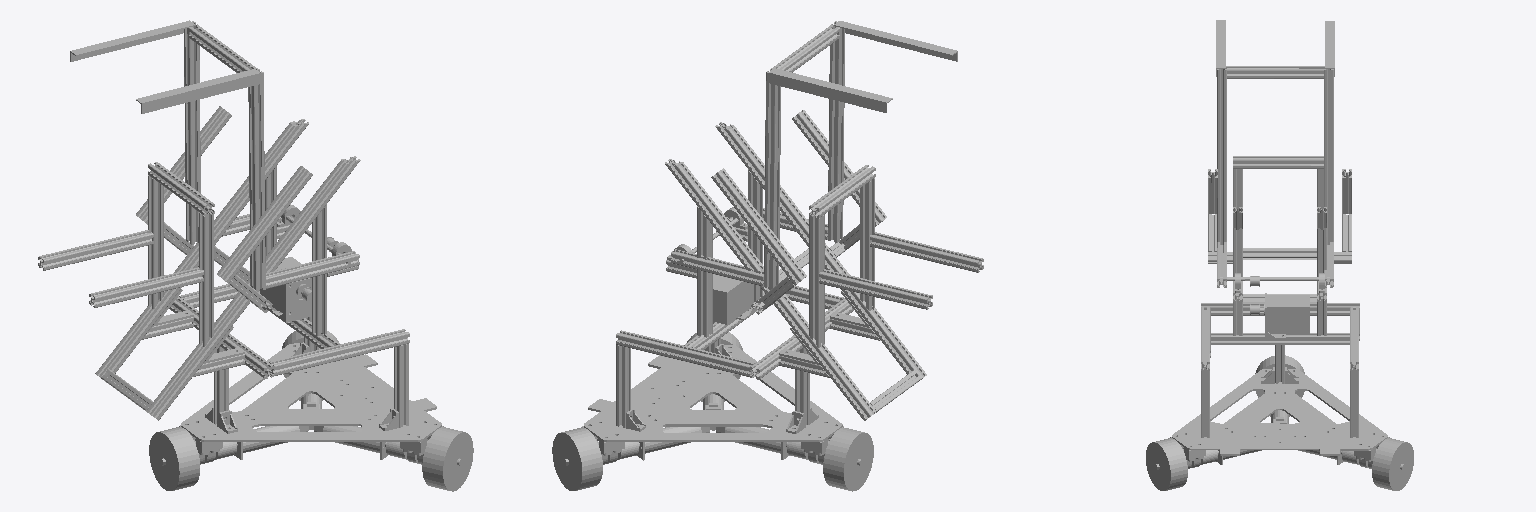
The robot description file, URDF, robot "basketball_description":
<robot
  name="basketball_description">
  <link
    name="base_link">
    <inertial>
      <origin
        xyz="0.000556125466968315 0.0167644917358465 0.0131913972683409"
        rpy="0 0 1.57" />
      <mass
        value="7.8087992128031" />
      <inertia
        ixx="0.216967868974315"
        ixy="8.11773602623218E-05"
        ixz="0.000869178911904359"
        iyy="0.193508557715986"
        iyz="0.0362506489850534"
        izz="0.221222216855788" />
    </inertial>
    <visual>
      <origin
        xyz="0 0 0"
        rpy="0 0 1.57" />
      <geometry>
        <mesh
          filename="package://basketball_description/meshes/base_link.STL" />
      </geometry>
      <material
        name="">
        <color
          rgba="0.752941176470588 0.752941176470588 0.752941176470588 1" />
      </material>
    </visual>
    <collision>
      <origin
        xyz="0 0 0"
        rpy="0 0 1.57" />
      <geometry>
        <mesh
          filename="package://basketball_description/meshes/base_link.STL" />
      </geometry>
    </collision>
  </link>
  <link
    name="fork_Link">
    <inertial>
      <origin
        xyz="-0.156466944929557 -0.190248664063083 1.47764992754022E-05"
        rpy="0 0 0" />
      <mass
        value="0.247877315447271" />
      <inertia
        ixx="0.00892421052874977"
        ixy="0.00214926699541557"
        ixz="5.8557101423315E-07"
        iyy="0.00415519046008872"
        iyz="6.97005625566748E-07"
        izz="0.00788503535970649" />
    </inertial>
    <visual>
      <origin
        xyz="0 0 0"
        rpy="0 0 0" />
      <geometry>
        <mesh
          filename="package://basketball_description/meshes/fork_Link.STL" />
      </geometry>
      <material
        name="">
        <color
          rgba="0.752941176470588 0.752941176470588 0.752941176470588 1" />
      </material>
    </visual>
    <collision>
      <origin
        xyz="0 0 0"
        rpy="0 0 0" />
      <geometry>
        <mesh
          filename="package://basketball_description/meshes/fork_Link.STL" />
      </geometry>
    </collision>
  </link>
  <joint
    name="fork_base_joint"
    type="revolute">
    <origin
      xyz="0 -0.0095392 0.31206"
      rpy="-1.5708 -0.010831 -0.0008" />
    <parent
      link="base_link" />
    <child
      link="fork_Link" />
    <axis
      xyz="0 0 -1" />
    <limit
      lower="-3.1"
      upper="0"
      effort="0"
      velocity="0" />
  </joint>
</robot>

--- What the picture shows (computed from the rendered views, not written in the file) ---
3 views of the same robot in one strip: view 1: azimuth 30°, elevation 25°; view 2: azimuth 150°, elevation 25°; view 3: azimuth 270°, elevation 25° (orthographic).
Model basketball_description with 2 links and 1 joints (1 revolute), rooted at base_link, posed every joint at zero.
Links seen in each view (by area): view 1: base_link, fork_Link; view 2: base_link, fork_Link; view 3: base_link, fork_Link.
Boxes of the visible links, x1,y1,x2,y2 form: base_link: (38, 106, 473, 491); fork_Link: (70, 20, 359, 291); base_link: (552, 110, 983, 491); fork_Link: (671, 21, 957, 288); base_link: (1146, 156, 1413, 490); fork_Link: (1216, 20, 1334, 287).
Bounding box of the posed robot: 0.6562 × 0.5408 × 0.792 m (x, y, z).
Meshes: 2 distinct files referenced, 2 mesh visuals loaded (2 binary STL).